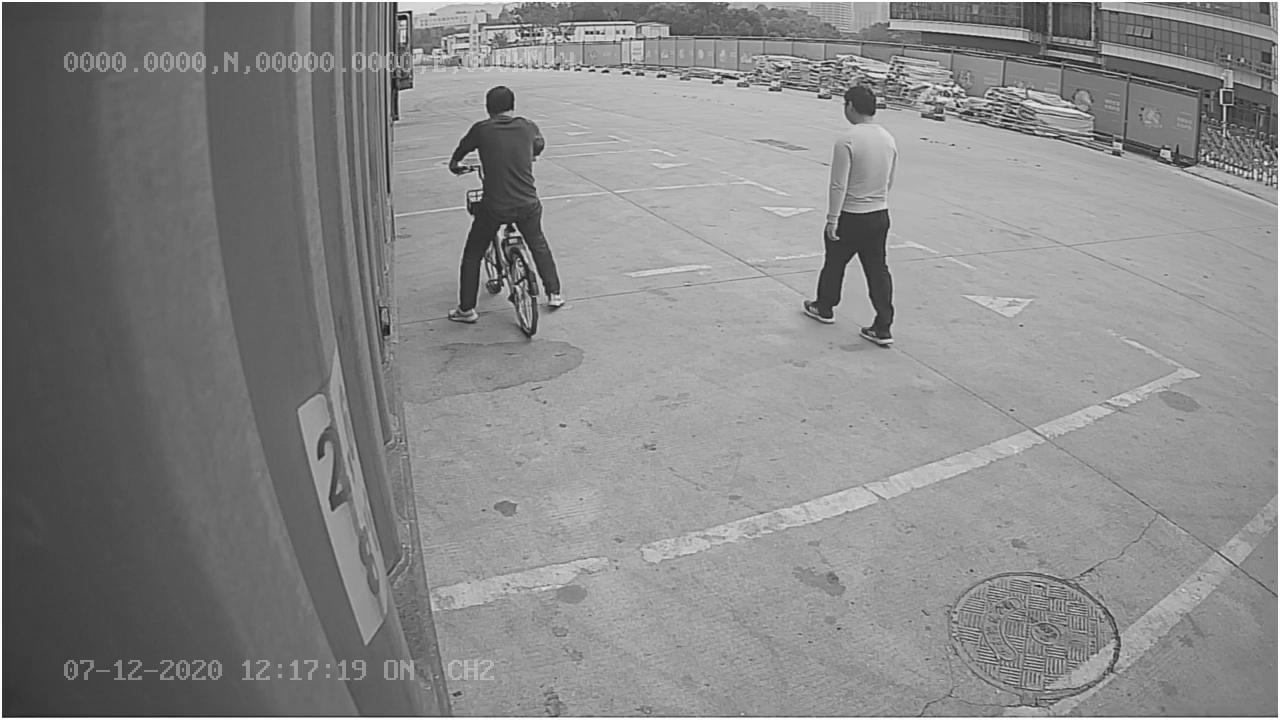person: (798, 84, 908, 346)
